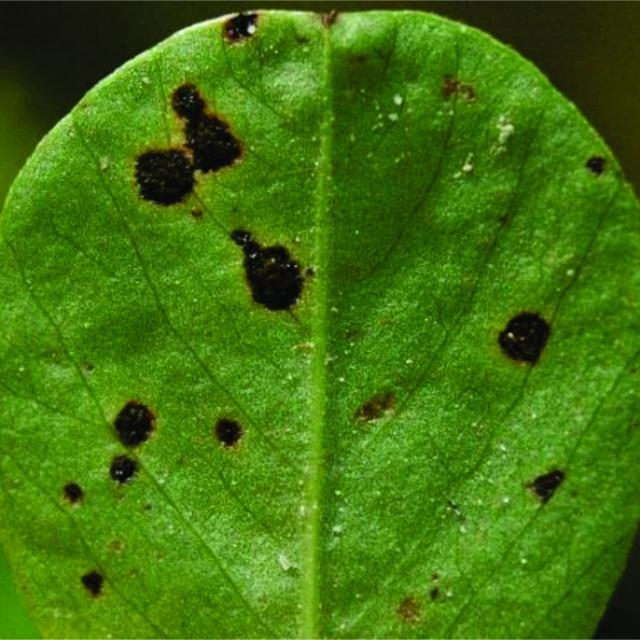Target_Spot: (51, 46, 584, 562)
